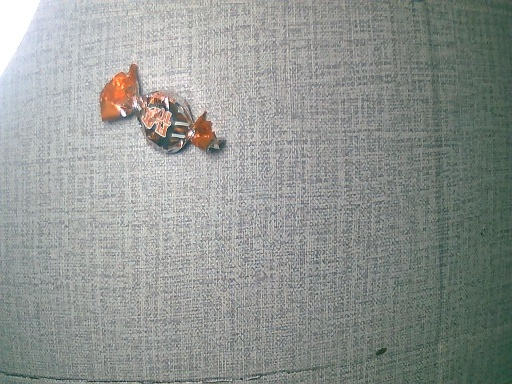plastic: (86, 66, 236, 160)
